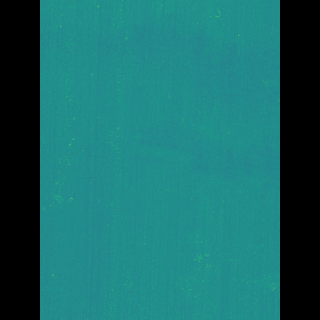Loch: (125, 0, 249, 204), (69, 120, 127, 221)
